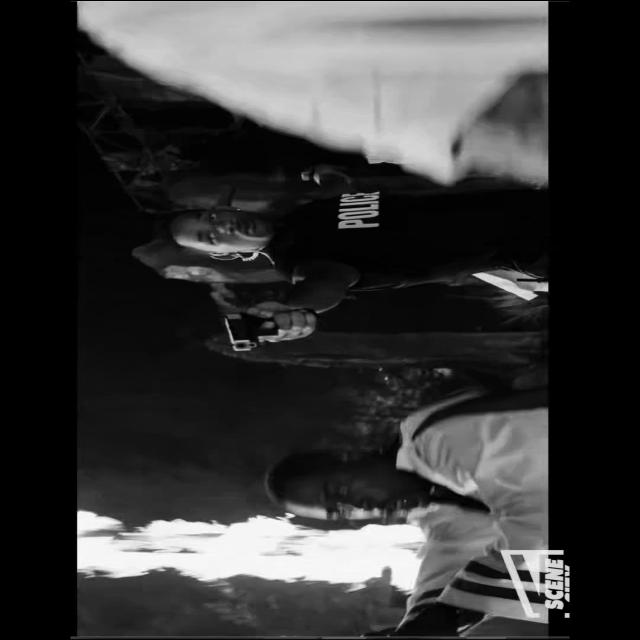weapons: (209, 303, 318, 357)
